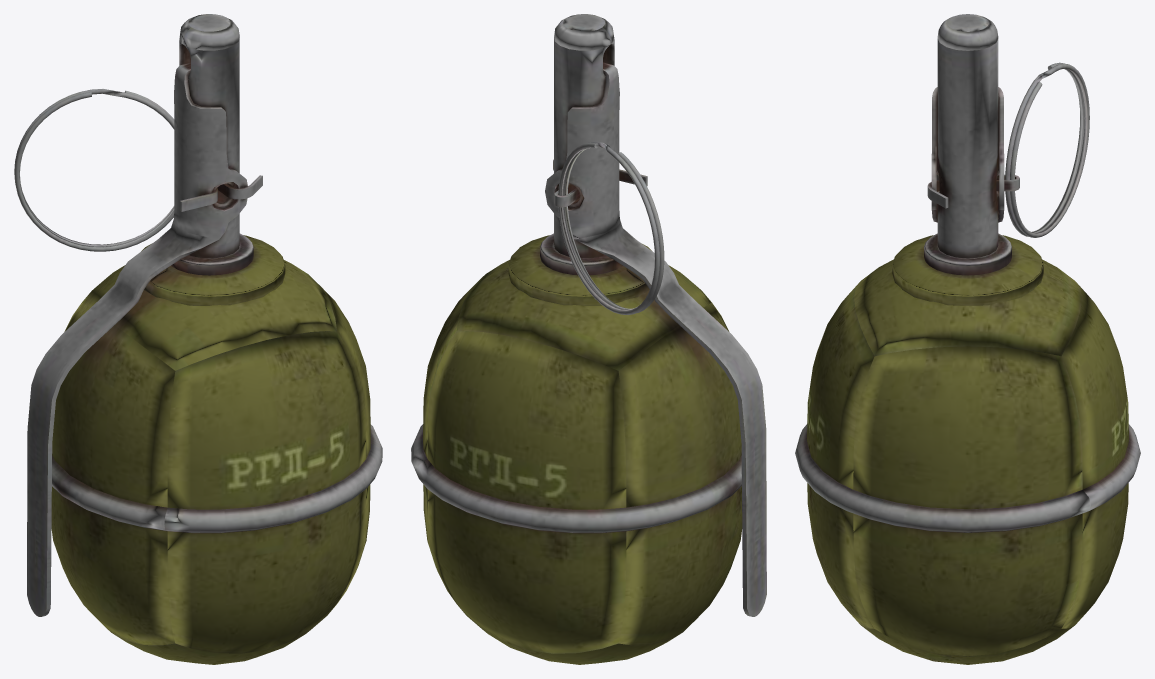
Rendered from grenade.glb.
3 renders of one model, left to right at view 1: azimuth 30°, elevation 25°; view 2: azimuth 150°, elevation 25°; view 3: azimuth 270°, elevation 25°, orthographic.
Visible parts, largest first — view 1: Grenade; view 2: Grenade; view 3: Grenade.
Boxes of the visible parts, x1,y1,x2,y2 form: Grenade: (14,14,382,664); Grenade: (411,14,766,664); Grenade: (795,14,1140,664).
Size of the model in its own units: 0.0679 by 0.1262 by 0.0631.
1 material, 1 textured.
